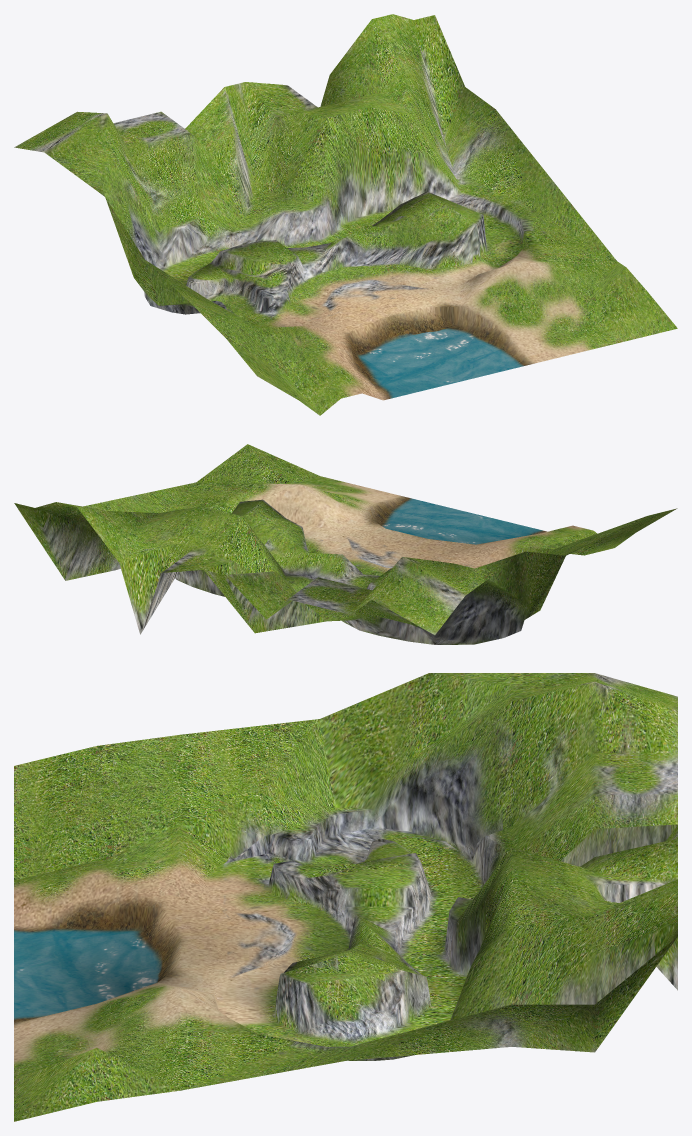
File: tscene.FBX
3 views of the same model, one above another, from view 1: azimuth 30°, elevation 25°; view 2: azimuth 150°, elevation 25°; view 3: azimuth 270°, elevation 25° (orthographic). The views are drawn at different scales.
Visible parts, largest first — view 1: Plane002; view 2: Plane002; view 3: Plane002.
Boxes of the visible parts, x1,y1,x2,y2 form: Plane002: (14,14,677,415); Plane002: (14,444,677,644); Plane002: (14,673,677,1121).
Size of the model in its own units: 600 by 600 by 200.
